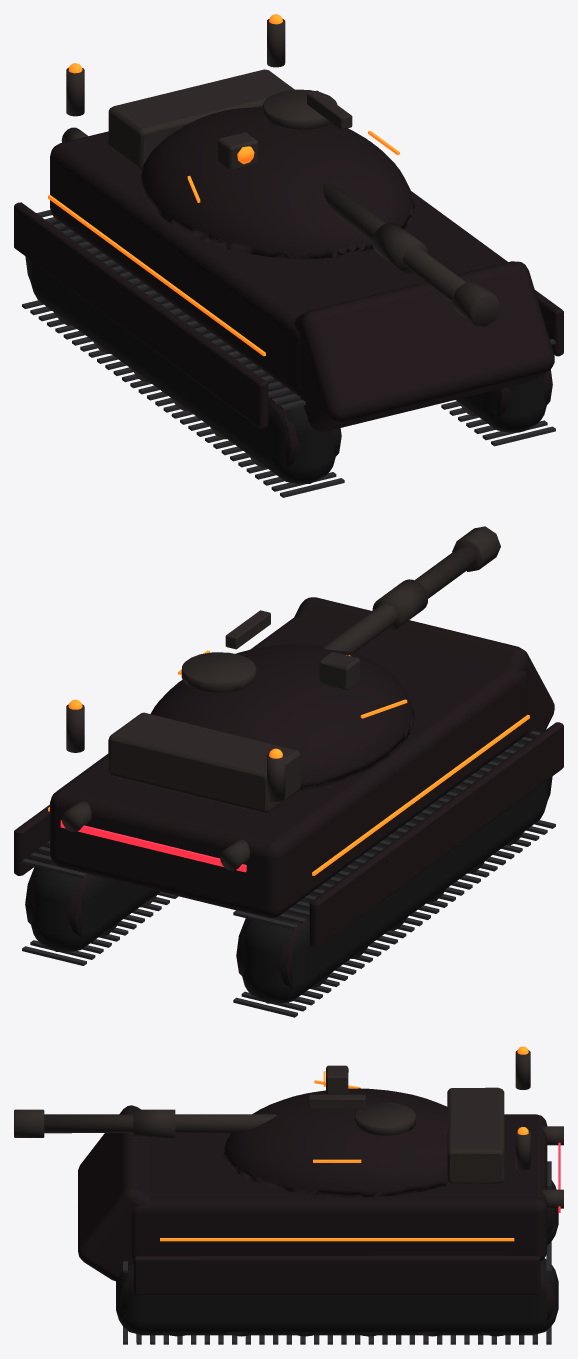
File: kampvogn_lava.glb
3 views of the same model, one above another, from view 1: azimuth 30°, elevation 25°; view 2: azimuth 150°, elevation 25°; view 3: azimuth 270°, elevation 25° (orthographic). The views are drawn at different scales.
Parts seen in each view (by area): view 1: krop_net; view 2: krop_net; view 3: krop_net.
Part boxes in pixels (x1=…): krop_net: x1=14, y1=14, x2=563, y2=497; krop_net: x1=14, y1=526, x2=563, y2=1017; krop_net: x1=14, y1=1046, x2=563, y2=1344.
Bounding box in the file's own units: 1.17 × 0.937 × 2.23.
